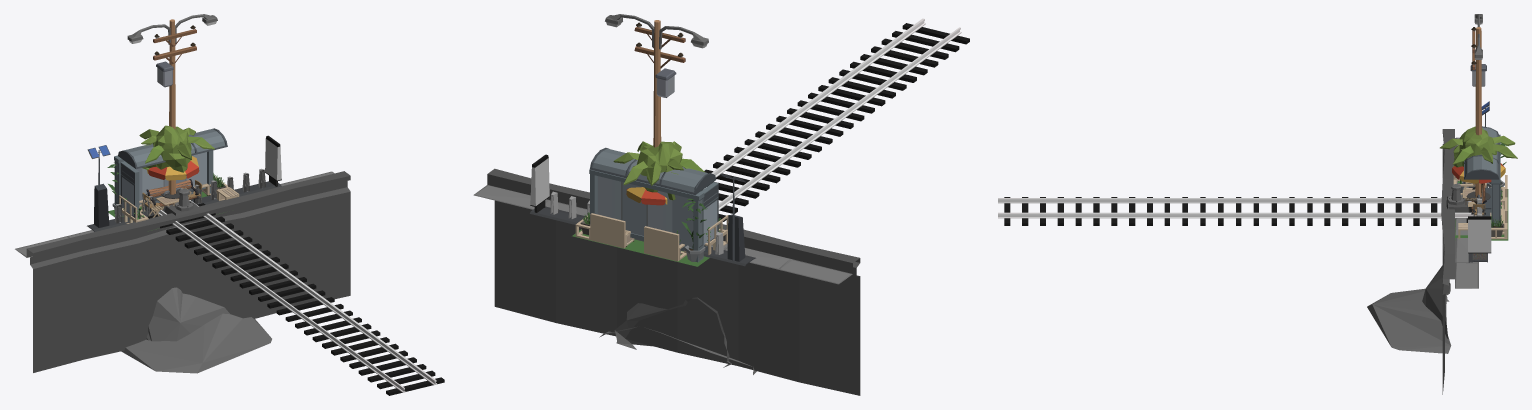
The model's file is street-props.glb.
3 views of the same model, side by side, from view 1: azimuth 30°, elevation 25°; view 2: azimuth 150°, elevation 25°; view 3: azimuth 270°, elevation 25° (orthographic). The views are drawn at different scales.
Parts seen in each view (by area): view 1: sea_wall, track, transit-shelter-1, bike_share, utility_pole, parklet, tree-01, outdoor_dining, palmtree; view 2: sea_wall, track, transit-shelter-1, parklet, bike_share, utility_pole, palmtree, tree-01, outdoor_dining; view 3: track, sea_wall, transit-shelter-1, parklet, bike_share, utility_pole, palmtree, tree-01, outdoor_dining.
Part boxes in pixels (left/top/right/bottom): sea_wall: left=15, top=171, right=350, bottom=373; track: left=148, top=200, right=444, bottom=395; transit-shelter-1: left=114, top=128, right=227, bottom=217; bike_share: left=87, top=135, right=281, bottom=231; utility_pole: left=153, top=19, right=196, bottom=194; parklet: left=107, top=162, right=239, bottom=231; tree-01: left=142, top=125, right=191, bottom=192; outdoor_dining: left=142, top=156, right=202, bottom=216; palmtree: left=139, top=127, right=214, bottom=163; sea_wall: left=473, top=168, right=860, bottom=395; track: left=702, top=18, right=969, bottom=221; transit-shelter-1: left=589, top=147, right=718, bottom=262; parklet: left=572, top=198, right=728, bottom=266; bike_share: left=530, top=154, right=755, bottom=266; utility_pole: left=634, top=20, right=685, bottom=147; palmtree: left=613, top=141, right=704, bottom=185; tree-01: left=636, top=141, right=682, bottom=200; outdoor_dining: left=626, top=187, right=667, bottom=205; track: left=998, top=197, right=1476, bottom=225; sea_wall: left=1367, top=129, right=1478, bottom=394; transit-shelter-1: left=1463, top=126, right=1500, bottom=225; parklet: left=1453, top=142, right=1508, bottom=240; bike_share: left=1468, top=101, right=1491, bottom=262; utility_pole: left=1470, top=27, right=1486, bottom=197; palmtree: left=1440, top=130, right=1517, bottom=164; tree-01: left=1453, top=126, right=1498, bottom=204; outdoor_dining: left=1452, top=163, right=1505, bottom=216.
Bounding box in the file's own units: 15.02 × 13.81 × 21.91.
1 material, 1 textured.
